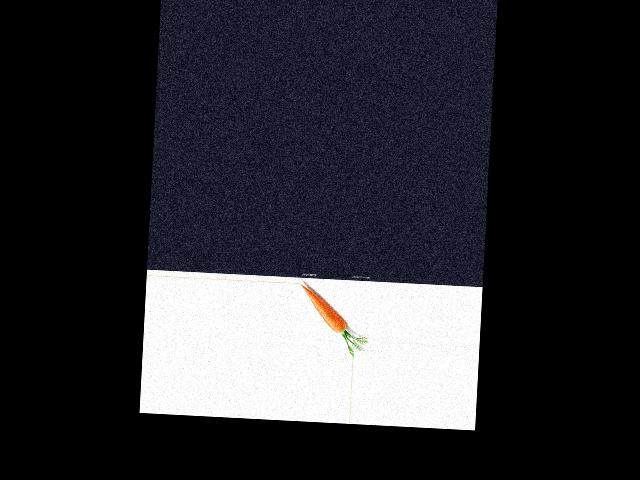carrot: (298, 282, 355, 347)
